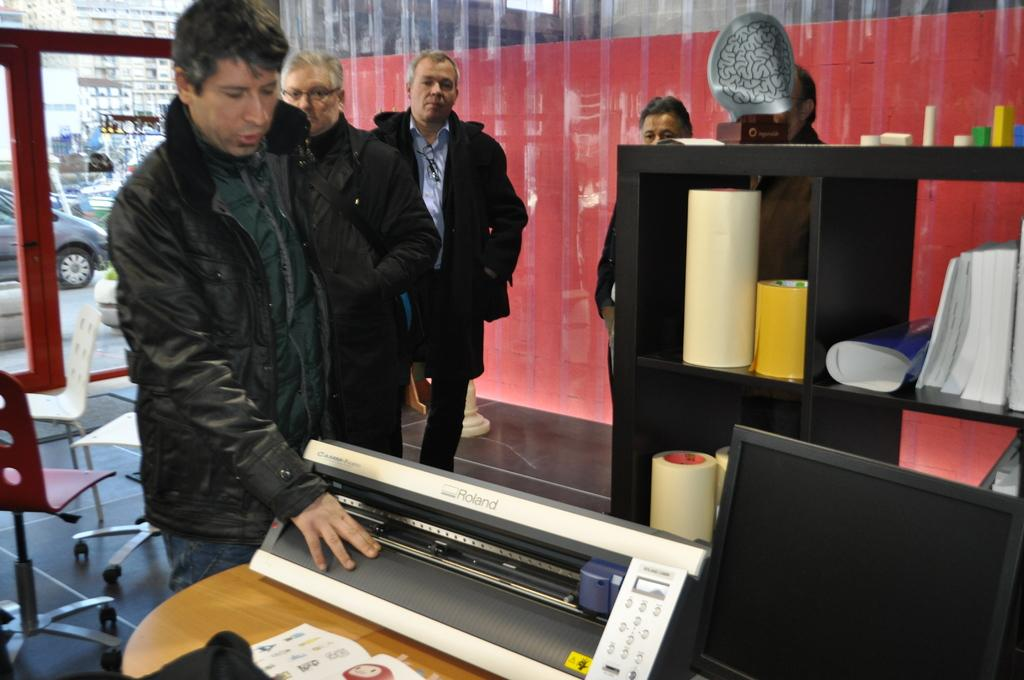Computer-monitor: (689, 421, 1008, 680)
